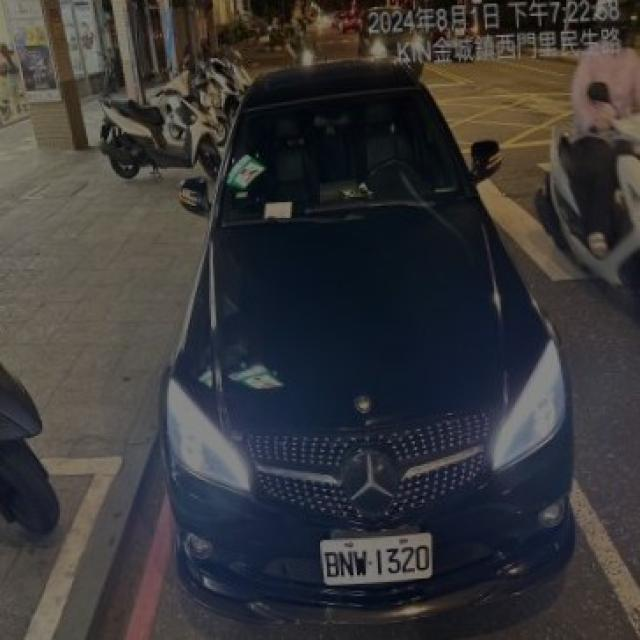Legalparking: (158, 58, 575, 626), (100, 72, 225, 178), (190, 49, 250, 142)
